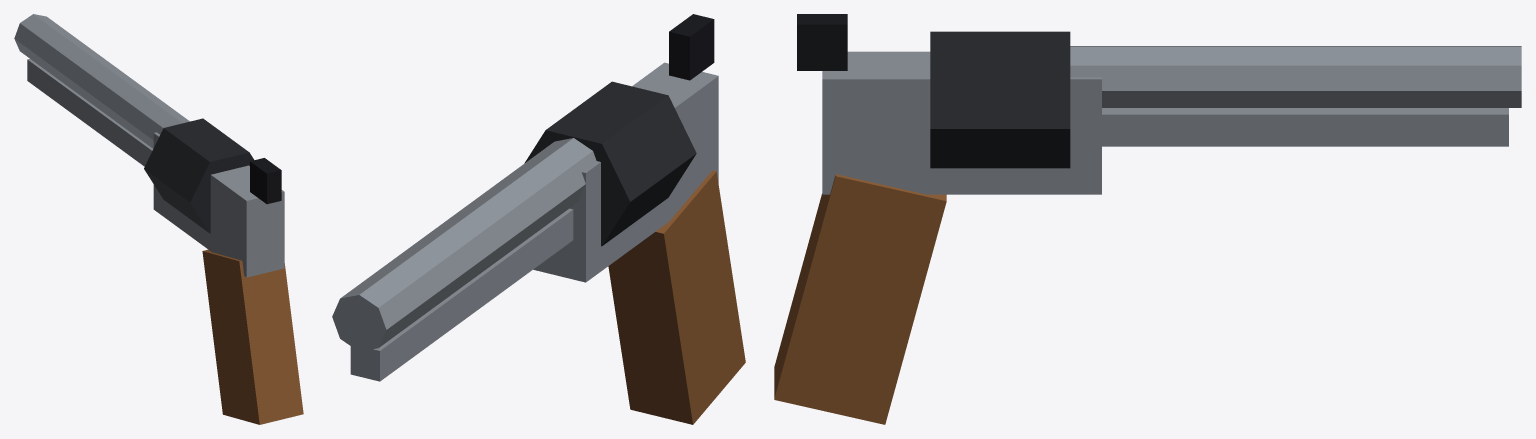
File: wpn_revolver.glb
3 renders of one model, left to right at view 1: azimuth 30°, elevation 25°; view 2: azimuth 150°, elevation 25°; view 3: azimuth 270°, elevation 25°, orthographic. The views are drawn at different scales.
Visible parts, largest first — view 1: wpn_revolver__body; view 2: wpn_revolver__body; view 3: wpn_revolver__body.
Boxes of the visible parts, left/top/right/bottom form: wpn_revolver__body: left=14, top=14, right=303, bottom=424; wpn_revolver__body: left=332, top=14, right=745, bottom=424; wpn_revolver__body: left=774, top=14, right=1521, bottom=424.
Size of the model in its own units: 0.054 by 0.169 by 0.2939.
